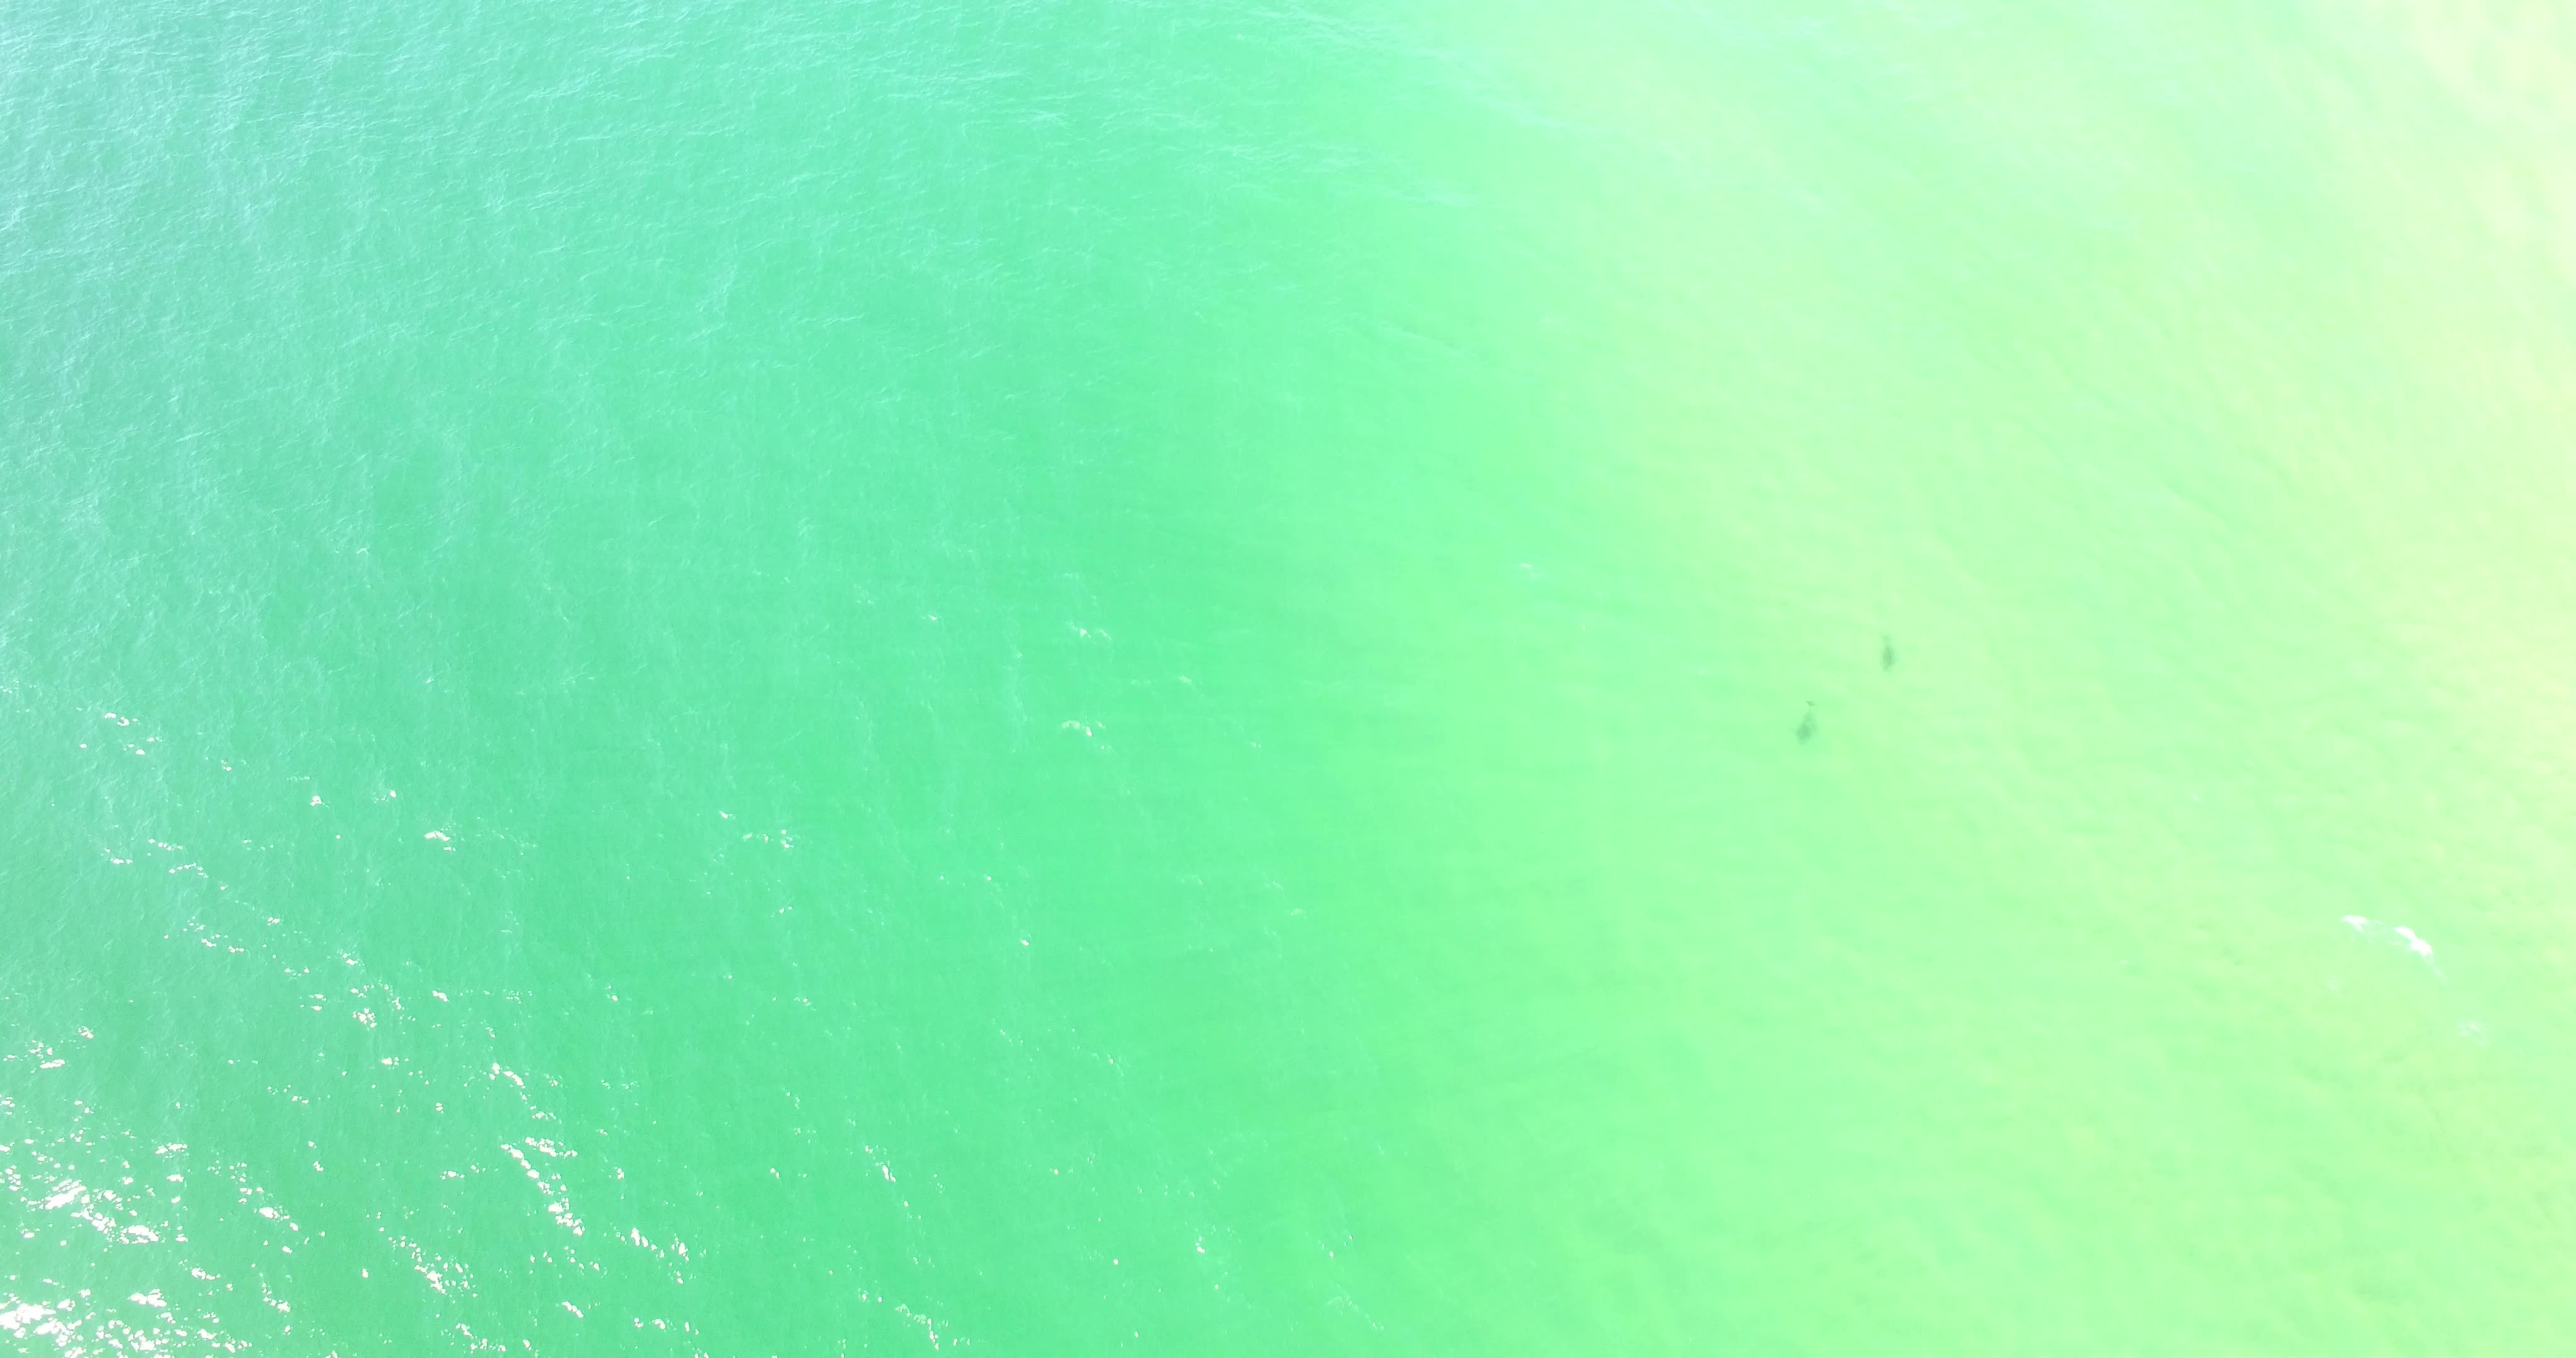dolphin: (1849, 613, 1915, 690), (1777, 685, 1838, 751)
